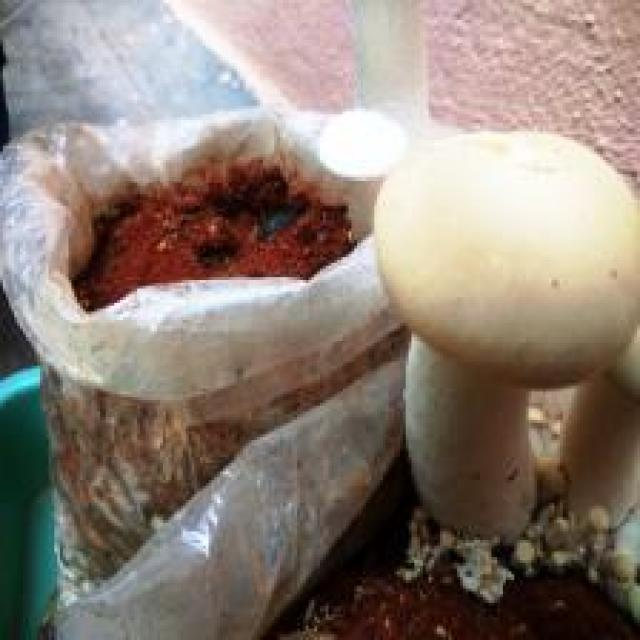field-mushroom: (369, 126, 637, 543)
